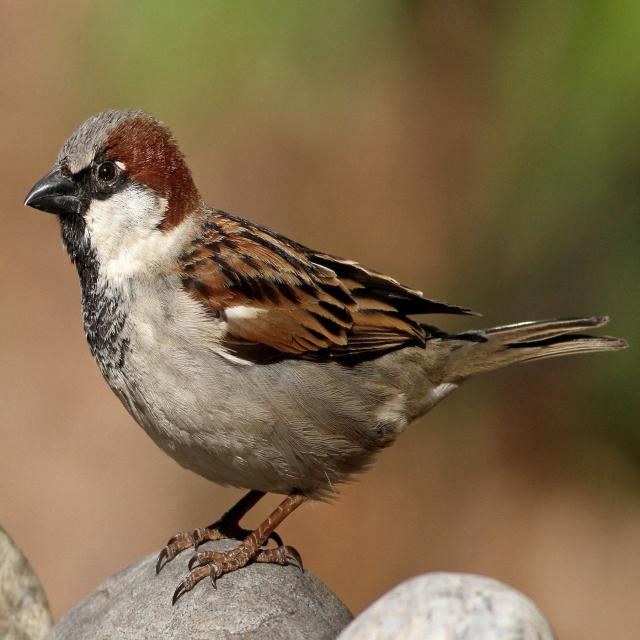sparrow: (25, 110, 627, 603)
